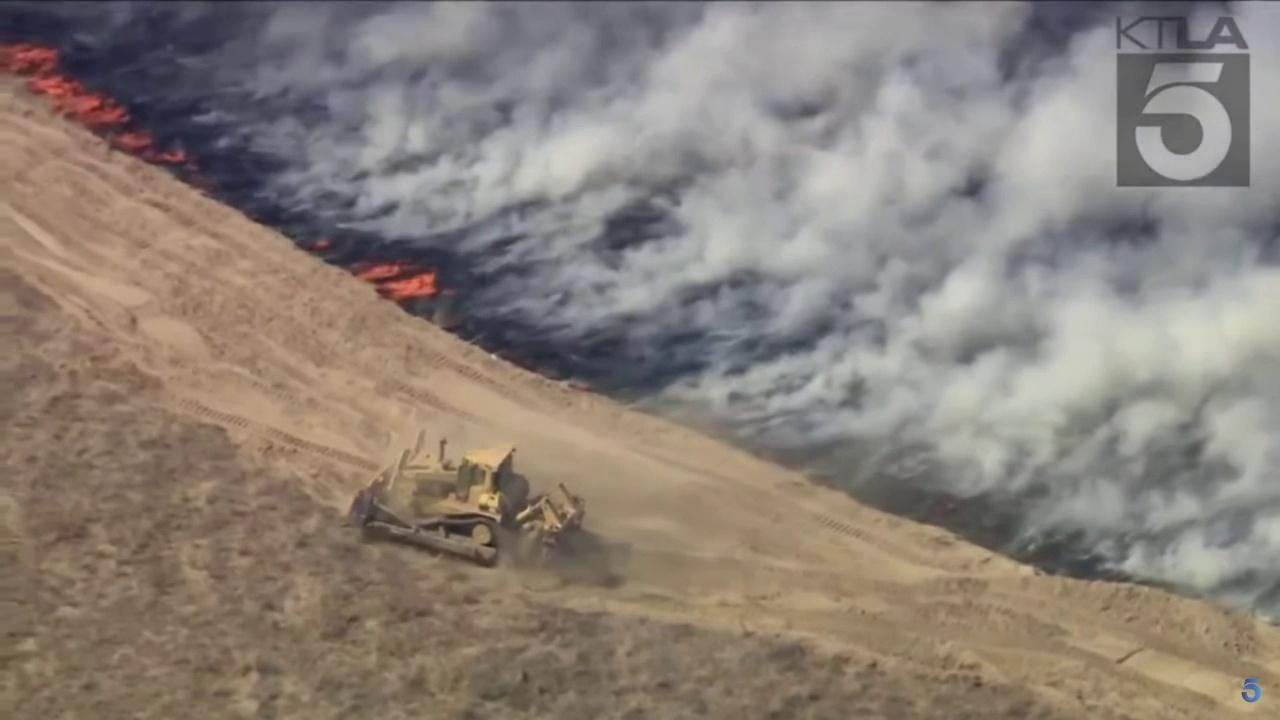fire: (0, 41, 187, 164), (344, 258, 439, 298), (315, 238, 332, 248)
smoke: (0, 0, 1280, 628)
